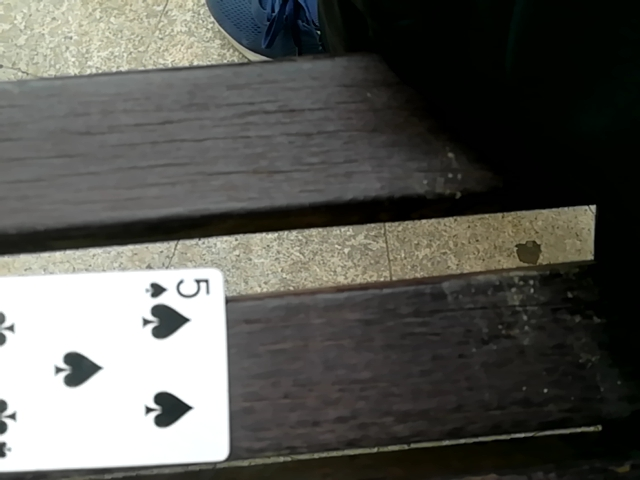ht 5: (0, 261, 226, 476)
